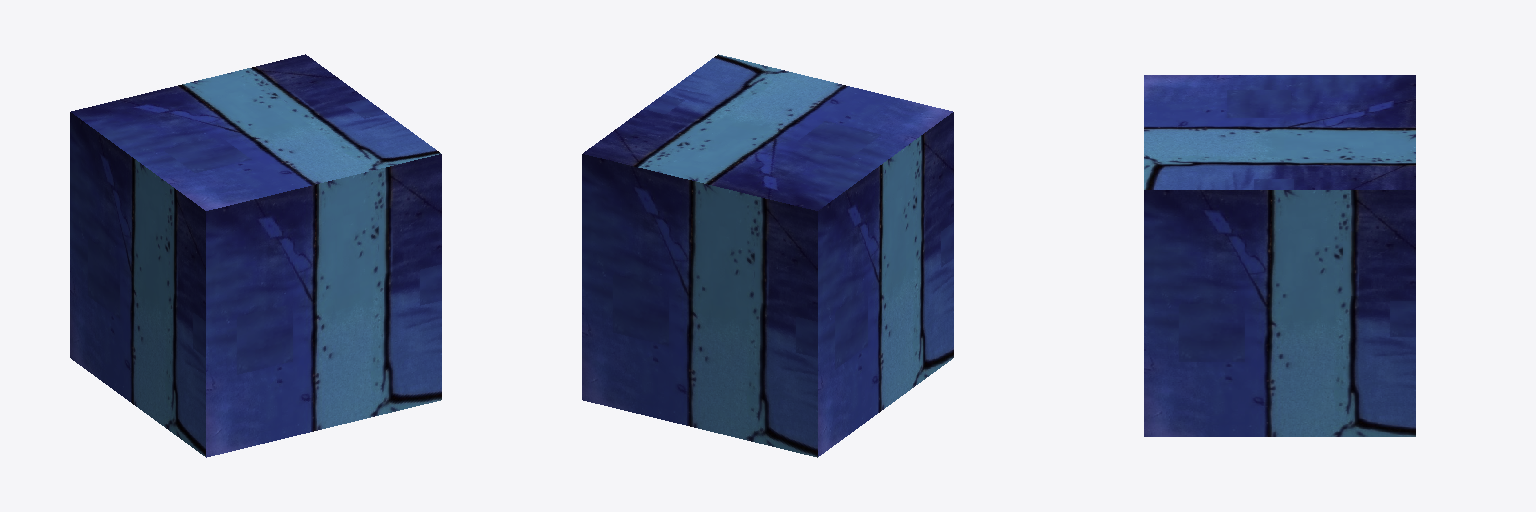
3 views of the same model, side by side, from view 1: azimuth 30°, elevation 25°; view 2: azimuth 150°, elevation 25°; view 3: azimuth 270°, elevation 25° (orthographic).
Parts seen in each view (by area): view 1: table_blue; view 2: table_blue; view 3: table_blue.
Boxes of the visible parts, x1=… form: table_blue: x1=70, y1=54, x2=441, y2=457; table_blue: x1=582, y1=54, x2=953, y2=457; table_blue: x1=1144, y1=75, x2=1415, y2=436.
Size of the model in its own units: 1 by 1 by 1.
Materials: 1 (1 with a texture image).